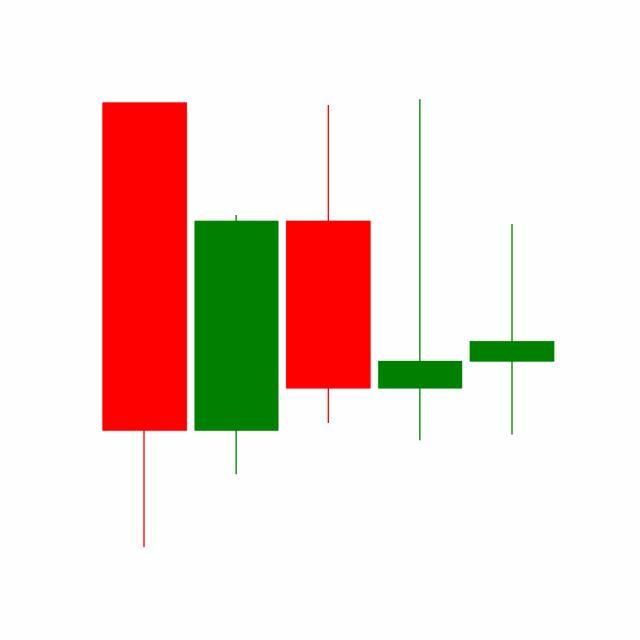Spinning Top: (466, 222, 559, 437)
